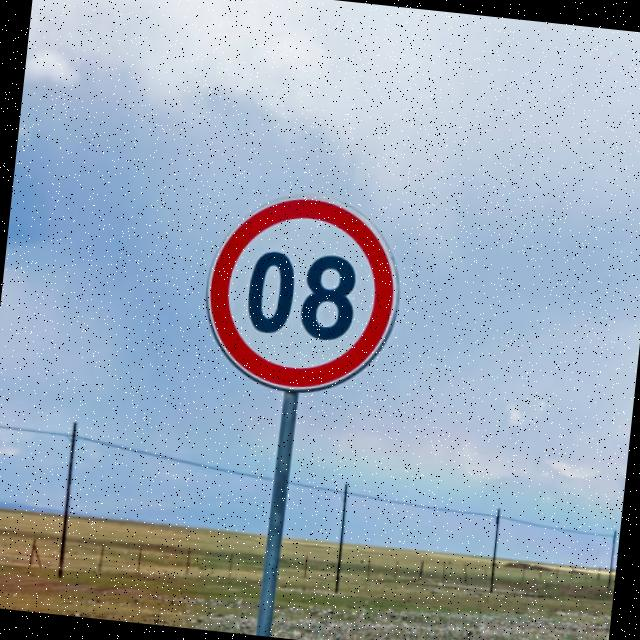speed_limit_80: (188, 178, 406, 407)
